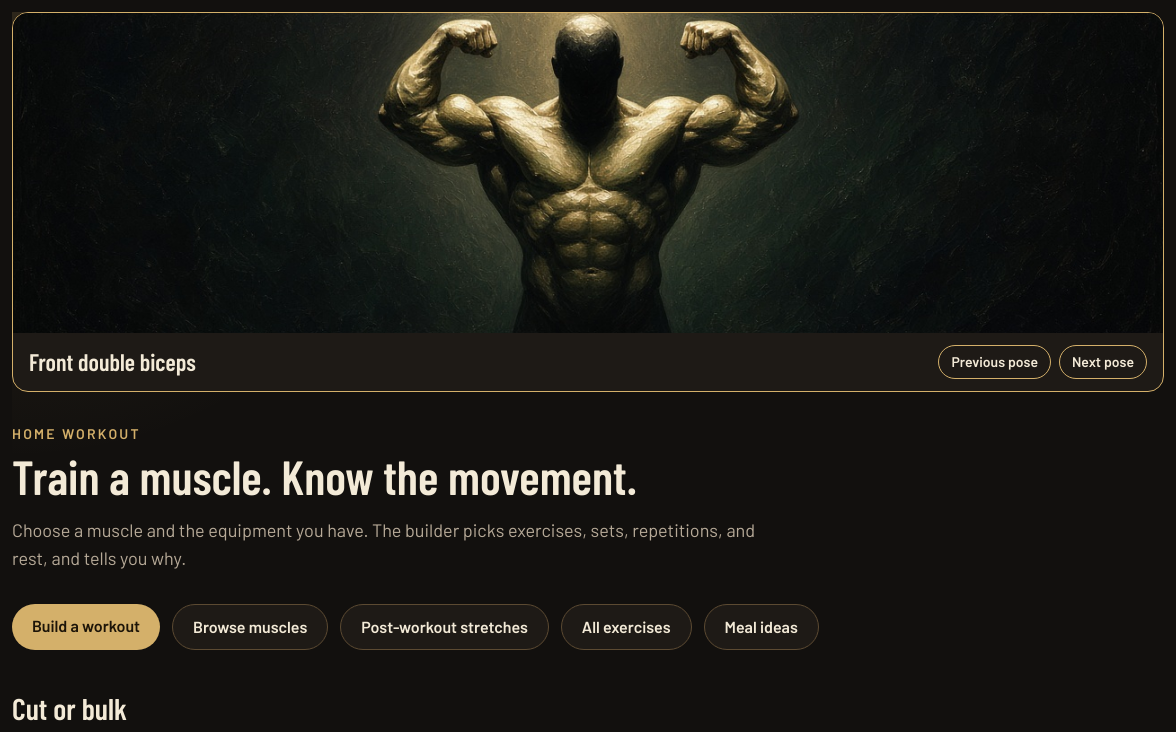
Test: HomePage › shows a pose and moves to the next one
The image size is (1176, 732).
Check: the text "Front double biceps" is shown, box [29,346,196,378]
Click the button "Next pose" at [1103, 362], box [1059,345,1147,379]
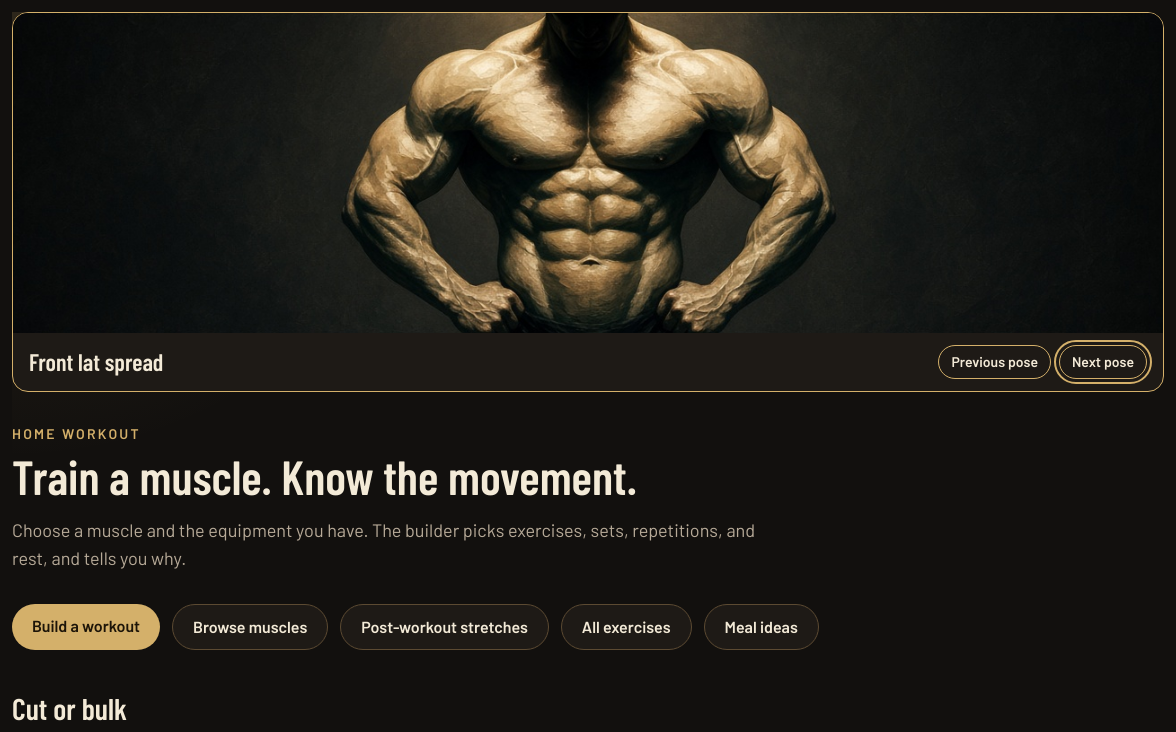
Check: the text "Front lat spread" is shown, box [29,346,163,378]
